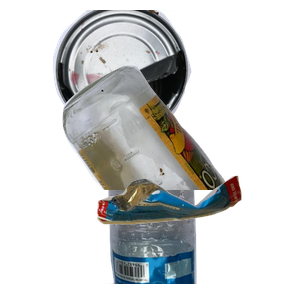glass: (60, 63, 300, 243)
metal: (50, 10, 262, 140)
plastic: (96, 120, 285, 300)
trash: (94, 173, 300, 300)
